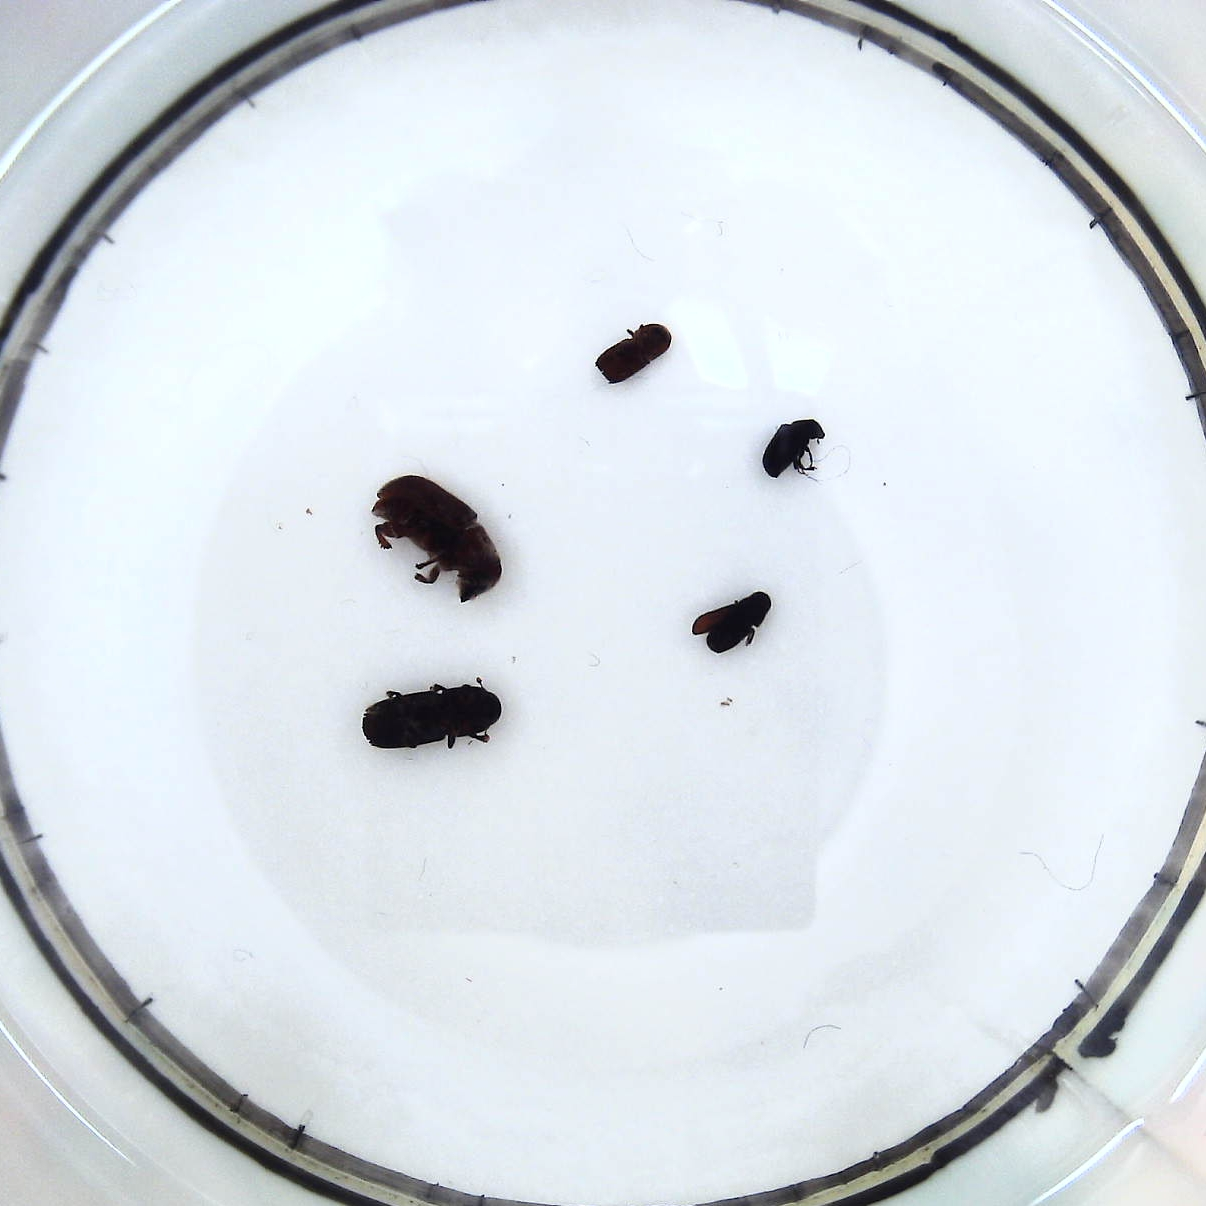Boerner: (360, 678, 514, 758)
Leconte: (367, 470, 506, 612)
armandi: (687, 590, 779, 658)
coleoptera: (762, 414, 826, 483)
linnaeus: (592, 317, 679, 387)
